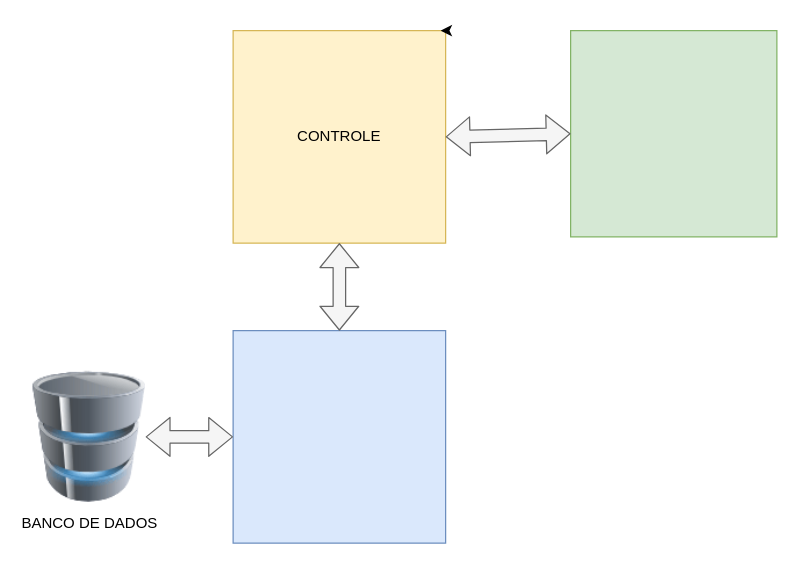
This 799x565 diagram has some shape labels left out. The shapes that lost their labels are listed below. From the top down, each one's box as (x1, y1, x2, y2) in pixels, then its label:
(569, 29, 777, 237): VIEW
(232, 329, 446, 543): MODELO
